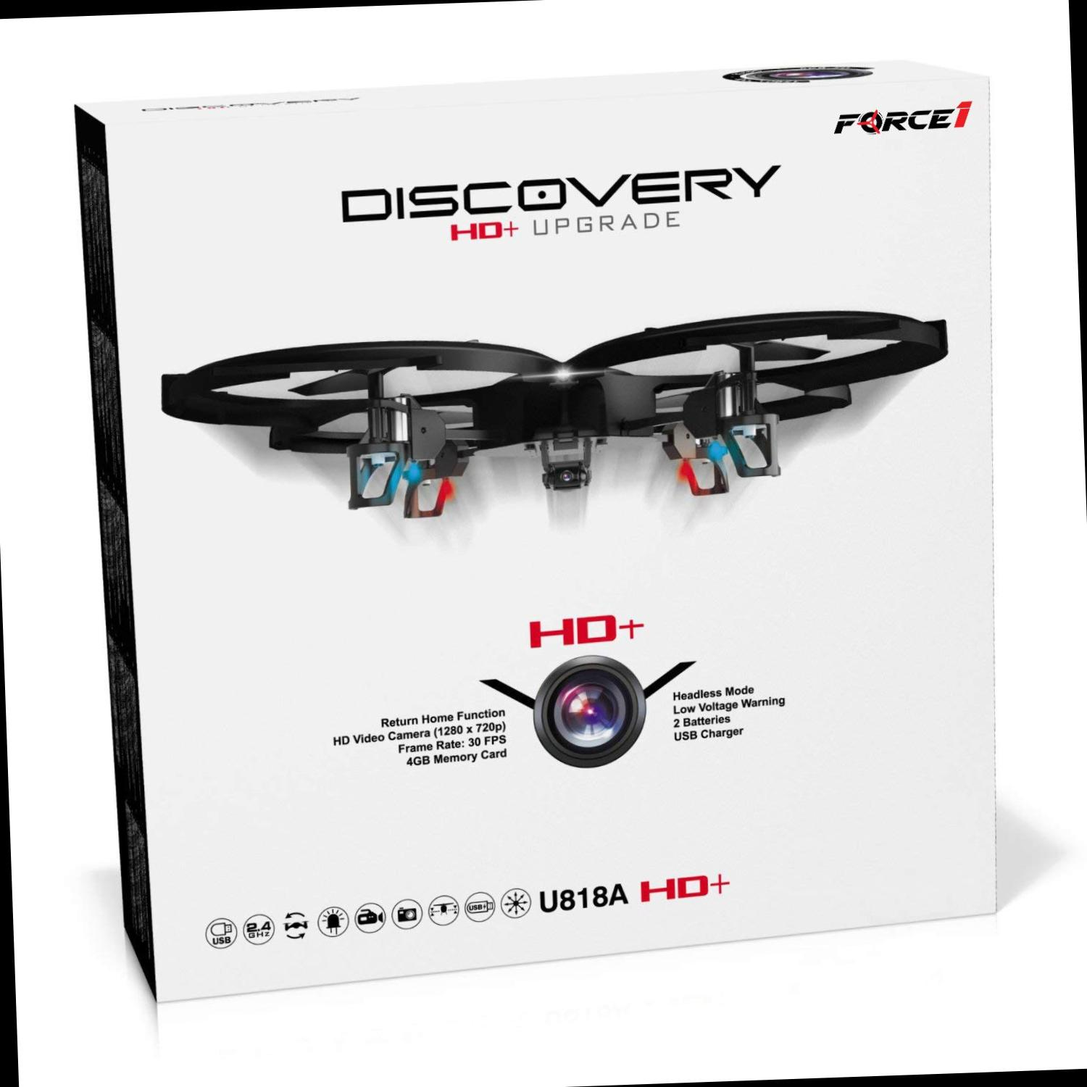drone: (158, 277, 987, 536)
